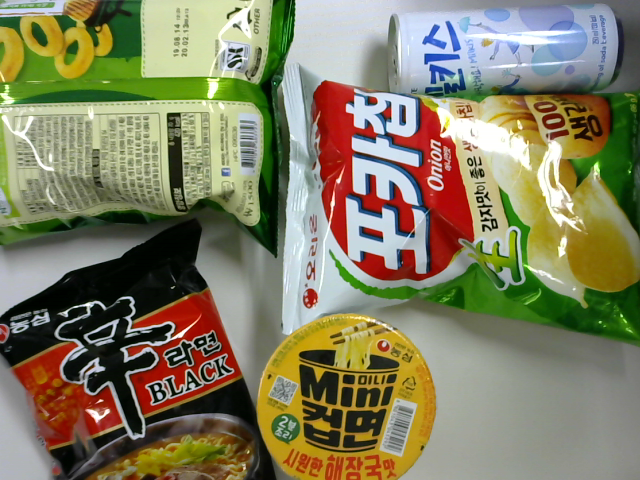Grilled_Onions: (1, 4, 295, 258)
Hejangmini: (257, 312, 442, 480)
Milkies_250ml: (385, 6, 621, 106)
Pocachip_Onion: (283, 74, 640, 352)
Sinramen_Black: (3, 228, 280, 480)
